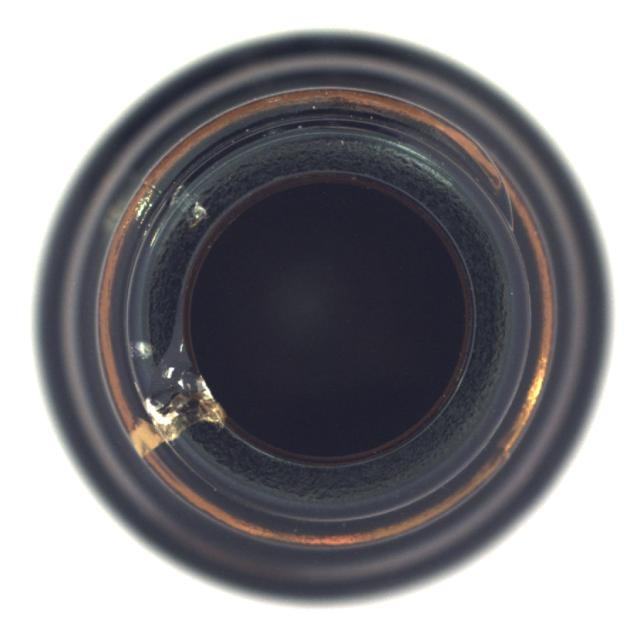bad-broken_small: (31, 29, 617, 611)
